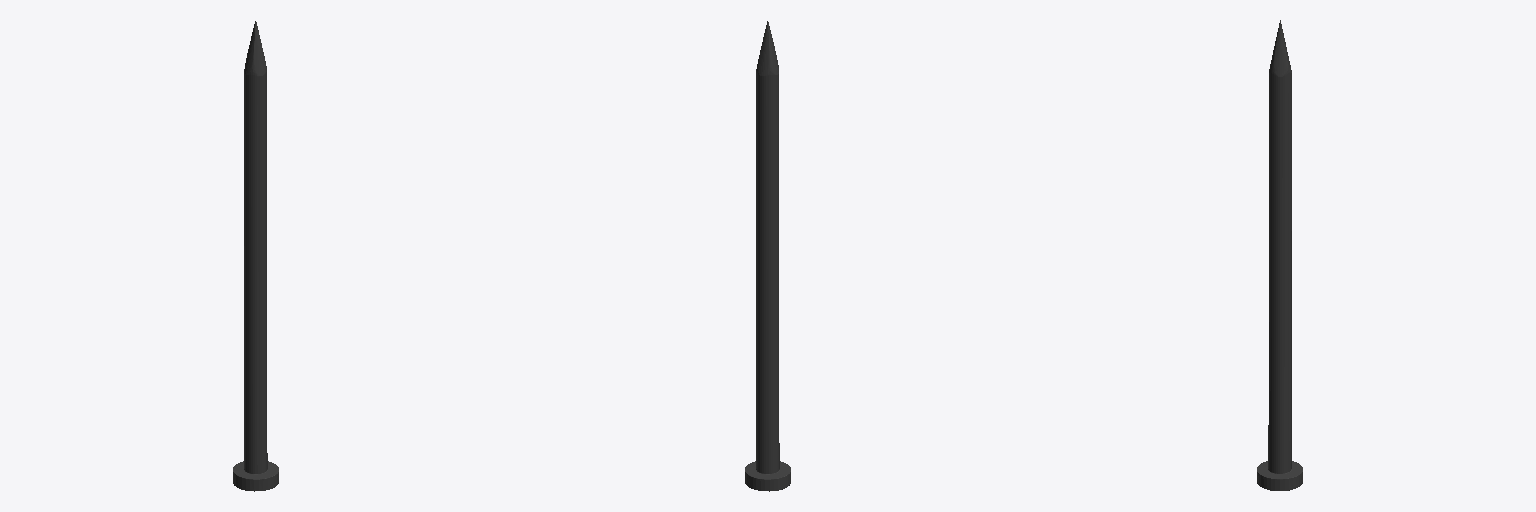
The robot description file, URDF, robot "apple":
<?xml version="1.0" encoding="utf-8"?>
<robot name="apple">
  <link name="base_link">
    <contact>
      <lateral_friction value="0.5"/>
      <rolling_friction value="0.0"/>
      <contact_cfm value="0.0"/>
      <contact_erp value="1.0"/>
    </contact>
    <inertial>
      <origin rpy="0 0 0" xyz="0 0 0"/>
      <mass value=".1"/>
      <inertia ixx="0" ixy="0" ixz="0" iyy="0" iyz="0" izz="0"/>
    </inertial>
    <visual>
      <origin rpy="1.57 0 0" xyz="0 0 0.05"/>
      <geometry>
        <mesh filename="models/meshes/nail/nail.obj" scale="0.02 0.02 0.02"/>
      </geometry>
      <material name="hi4">
        <color rgba="0.3 0.3 0.3 1"/>
      </material>
    </visual>
    <collision>
      <origin rpy="1.57 0 0" xyz="0 0 0.05"/>
      <geometry>
        <mesh filename="models/meshes/nail/nail.obj" scale="0.02 0.02 0.02"/>
      </geometry>
    </collision>
  </link>
</robot>

--- Facts derived from the render (not from the file) ---
The picture shows the robot from 3 angles, left to right: view 1: azimuth 30°, elevation 25°; view 2: azimuth 150°, elevation 25°; view 3: azimuth 270°, elevation 25°; orthographic projection.
Model apple with 1 links and 0 joints (none), rooted at base_link, posed every joint at zero.
Visible links, largest first — view 1: base_link; view 2: base_link; view 3: base_link.
Boxes of the visible links, <box> form: base_link: <box>233,21,278,491</box>; base_link: <box>745,21,790,491</box>; base_link: <box>1257,20,1302,490</box>.
Bounding box of the posed robot: 0.0221 × 0.0221 × 0.2401 m (x, y, z).
Meshes: 1 distinct files referenced, 1 mesh visuals loaded (1 OBJ).